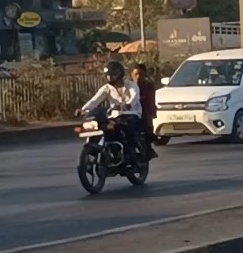BikeWithRider: (68, 56, 164, 197)
Helmet: (99, 58, 128, 87)
NoHelmet: (128, 61, 152, 86)
